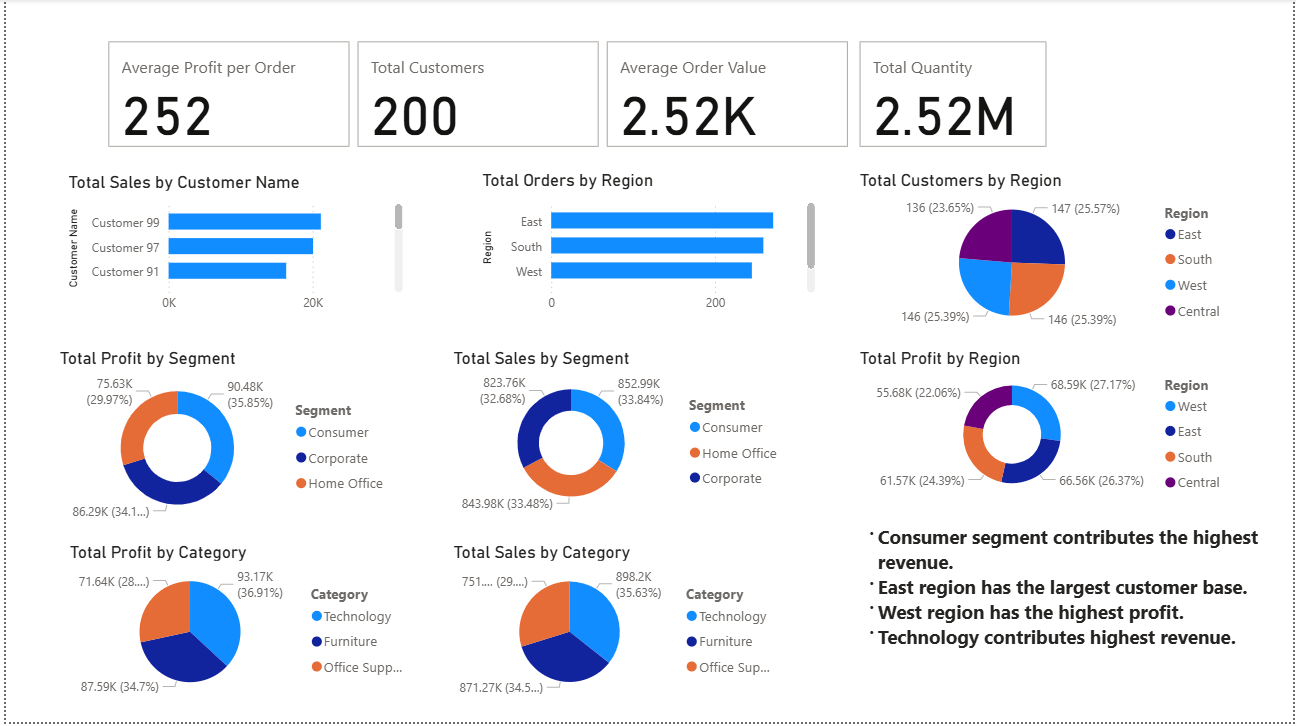

The page's visual inventory and layout, read from the dashboard file:
{"tool":"powerbi","page":{"name":"Page 3","canvas":[1280,720],"ordinal":2},"visuals":[{"type":"cardVisual","fields":{"Data":["Ecommerce_Data.Average Profit per Order","Ecommerce_Data.Total Customers","Ecommerce_Data.Average Order Value"]},"box":[97,37.3,747.6,115.7],"z":0},{"type":"clusteredBarChart","fields":{"Category":["Ecommerce_Data.Customer Name"],"Y":["Ecommerce_Data.Total Sales"]},"box":[56.9,172.1,342.8,149.3],"z":1000},{"type":"textbox","box":[58,378.5,342,150],"z":2000},{"type":"cardVisual","fields":{"Data":["Ecommerce_Data.Total Quantity"]},"box":[844.8,37,196.3,115.2],"z":3000},{"type":"donutChart","fields":{"Y":["Ecommerce_Data.Total Profit"],"Category":["Ecommerce_Data.Segment"]},"box":[48.4,347,341.3,180.6],"z":4000},{"type":"barChart","fields":{"Y":["Ecommerce_Data.Total Orders"],"Category":["Ecommerce_Data.Region"]},"box":[469.3,170.7,341.3,150.8],"z":5000},{"type":"textbox","box":[844.8,517.7,415.3,153.6],"z":6000},{"type":"donutChart","fields":{"Y":["Ecommerce_Data.Total Sales"],"Category":["Ecommerce_Data.Segment"]},"box":[440.9,347,341.3,170.7],"z":7000},{"type":"pieChart","fields":{"Y":["Ecommerce_Data.Total Profit"],"Category":["Ecommerce_Data.Category"]},"box":[58.3,540.4,352.7,160.7],"z":8000},{"type":"pieChart","fields":{"Y":["Ecommerce_Data.Total Sales"],"Category":["Ecommerce_Data.Category"]},"box":[440.9,540.4,341.3,160.7],"z":9000},{"type":"pieChart","fields":{"Y":["Ecommerce_Data.Total Customers"],"Category":["Ecommerce_Data.Region"]},"box":[844.8,170.7,378.3,165],"z":10000},{"type":"donutChart","fields":{"Y":["Ecommerce_Data.Total Profit"],"Category":["Ecommerce_Data.Region"]},"box":[844.8,347,378.3,153.6],"z":11000}]}

Visuals, with their boxes in screenshot pixels (x1, y1, x2, y2), scaled from the page's 1280x720 canvas onto the 1296x726 screenshot:
cardVisual - Ecommerce_Data.Average Profit per Order x Ecommerce_Data.Total Customers: rect(98, 38, 855, 154)
clusteredBarChart - Ecommerce_Data.Customer Name x Ecommerce_Data.Total Sales: rect(58, 174, 405, 324)
textbox: rect(59, 382, 405, 533)
cardVisual - Ecommerce_Data.Total Quantity: rect(855, 37, 1054, 153)
donutChart - Ecommerce_Data.Total Profit x Ecommerce_Data.Segment: rect(49, 350, 395, 532)
barChart - Ecommerce_Data.Total Orders x Ecommerce_Data.Region: rect(475, 172, 821, 324)
textbox: rect(855, 522, 1276, 677)
donutChart - Ecommerce_Data.Total Sales x Ecommerce_Data.Segment: rect(446, 350, 792, 522)
pieChart - Ecommerce_Data.Total Profit x Ecommerce_Data.Category: rect(59, 545, 416, 707)
pieChart - Ecommerce_Data.Total Sales x Ecommerce_Data.Category: rect(446, 545, 792, 707)
pieChart - Ecommerce_Data.Total Customers x Ecommerce_Data.Region: rect(855, 172, 1238, 338)
donutChart - Ecommerce_Data.Total Profit x Ecommerce_Data.Region: rect(855, 350, 1238, 505)
